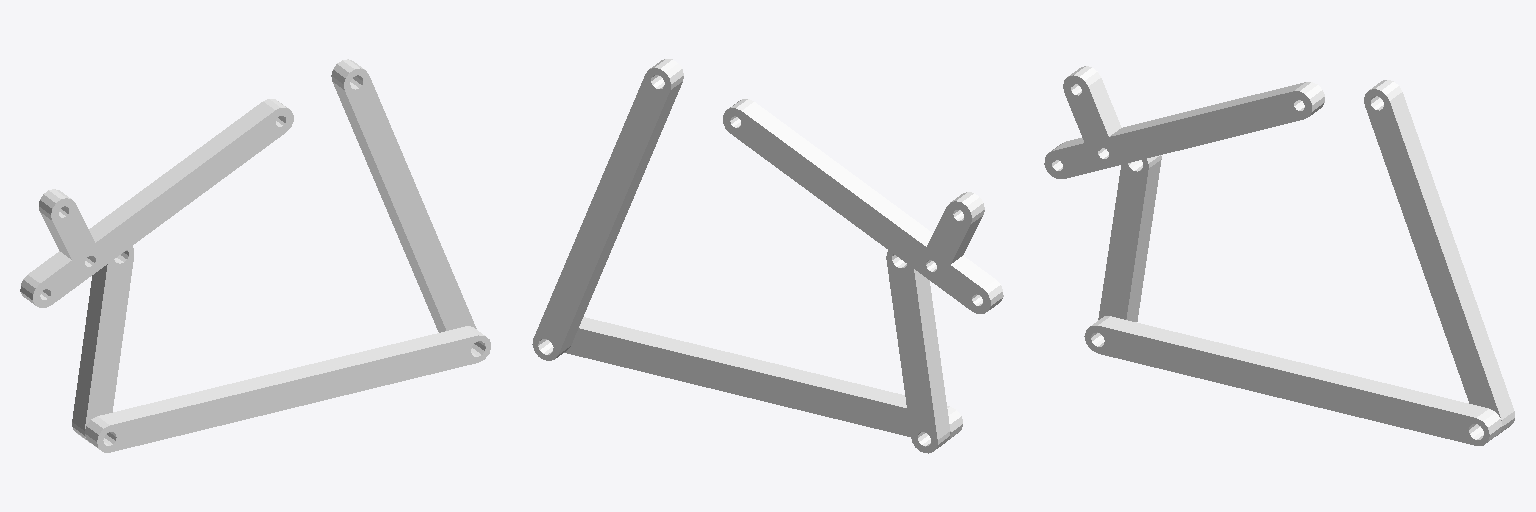
URDF robot description (four_links):
<?xml version="1.0" encoding="utf-8"?>
<!-- This URDF was automatically created by SolidWorks to URDF Exporter! Originally created by [author] ([email redacted]) 
     Commit Version: 1.6.0-4-g7f85cfe  Build Version: 1.6.7995.38578
     For more information, please see http://wiki.ros.org/sw_urdf_exporter -->
<robot
  name="four_links">
  <link
    name="base_link">
    <inertial>
      <origin
        xyz="-0.0420417072243827 -0.0743722309975965 -0.0245209736544894"
        rpy="0 0 0" />
      <mass
        value="0.0209510308536538" />
      <inertia
        ixx="4.31058987194356E-07"
        ixy="9.00920390220769E-22"
        ixz="1.6265494408689E-22"
        iyy="5.33666050979322E-05"
        iyz="3.4274231660628E-24"
        izz="5.34484802375657E-05" />
    </inertial>
    <visual>
      <origin
        xyz="0 0 0"
        rpy="0 0 0" />
      <geometry>
        <mesh
          filename="package://four_links/meshes/base_link.STL" />
      </geometry>
      <material
        name="">
        <color
          rgba="1 1 1 1" />
      </material>
    </visual>
    <collision>
      <origin
        xyz="0 0 0"
        rpy="0 0 0" />
      <geometry>
        <mesh
          filename="package://four_links/meshes/base_link.STL" />
      </geometry>
    </collision>
  </link>
  <link
    name="linkAB">
    <inertial>
      <origin
        xyz="0.0371817038425088 -6.08402217494586E-14 -0.005"
        rpy="0 0 0" />
      <mass
        value="0.00950214387592874" />
      <inertia
        ixx="1.97084106558777E-07"
        ixy="-2.59238403974119E-21"
        ixz="-7.40987074598825E-23"
        iyy="5.19422383682696E-06"
        iyz="-6.26387574287629E-24"
        izz="5.23293887878693E-06" />
    </inertial>
    <visual>
      <origin
        xyz="0 0 0"
        rpy="0 0 0" />
      <geometry>
        <mesh
          filename="package://four_links/meshes/linkAB.STL" />
      </geometry>
      <material
        name="">
        <color
          rgba="1 1 1 1" />
      </material>
    </visual>
    <collision>
      <origin
        xyz="0 0 0"
        rpy="0 0 0" />
      <geometry>
        <mesh
          filename="package://four_links/meshes/linkAB.STL" />
      </geometry>
    </collision>
  </link>
  <joint
    name="jointA"
    type="continuous">
    <origin
      xyz="-0.126714490675986 0.0295209736544894 -0.0743722309975965"
      rpy="1.5707963267949 -1.42221124002695 0" />
    <parent
      link="base_link" />
    <child
      link="linkAB" />
    <axis
      xyz="0 0 1" />
  </joint>
  <link
    name="linkBC">
    <inertial>
      <origin
        xyz="0.0544311472852489 0.00364847640014895 -0.00500000000448934"
        rpy="0 0 0" />
      <mass
        value="0.0180946249077626" />
      <inertia
        ixx="1.35905209390565E-06"
        ixy="1.7357626470457E-06"
        ixz="-1.42991788926848E-22"
        iyy="2.39956392272529E-05"
        iyz="4.56105317644272E-23"
        izz="2.50531142393625E-05" />
    </inertial>
    <visual>
      <origin
        xyz="0 0 0"
        rpy="0 0 0" />
      <geometry>
        <mesh
          filename="package://four_links/meshes/linkBC.STL" />
      </geometry>
      <material
        name="">
        <color
          rgba="1 1 1 1" />
      </material>
    </visual>
    <collision>
      <origin
        xyz="0 0 0"
        rpy="0 0 0" />
      <geometry>
        <mesh
          filename="package://four_links/meshes/linkBC.STL" />
      </geometry>
    </collision>
  </link>
  <joint
    name="jointB"
    type="continuous">
    <origin
      xyz="0.074166528159762 0.000154719377460921 -0.00999999999551065"
      rpy="0 0 -0.982349251785507" />
    <parent
      link="linkAB" />
    <child
      link="linkBC" />
    <axis
      xyz="0 0 1" />
  </joint>
  <link
    name="linkCD">
    <inertial>
      <origin
        xyz="-0.0678253502735387 -3.00037772404949E-14 -0.005"
        rpy="0 0 0" />
      <mass
        value="0.0167330198618603" />
      <inertia
        ixx="3.44857715381249E-07"
        ixy="6.81596824743695E-21"
        ixz="-8.50419918939852E-24"
        iyy="2.73613018527324E-05"
        iyz="9.68938210760468E-23"
        izz="2.74272759037493E-05" />
    </inertial>
    <visual>
      <origin
        xyz="0 0 0"
        rpy="0 0 0" />
      <geometry>
        <mesh
          filename="package://four_links/meshes/linkCD.STL" />
      </geometry>
      <material
        name="">
        <color
          rgba="1 1 1 1" />
      </material>
    </visual>
    <collision>
      <origin
        xyz="0 0 0"
        rpy="0 0 0" />
      <geometry>
        <mesh
          filename="package://four_links/meshes/linkCD.STL" />
      </geometry>
    </collision>
  </link>
  <joint
    name="jointD"
    type="continuous">
    <origin
      xyz="0.0432855093240141 0.0295209736544894 -0.0743722309975965"
      rpy="1.5707963267949 1.18883685572557 0" />
    <parent
      link="base_link" />
    <child
      link="linkCD" />
    <axis
      xyz="0 0 1" />
  </joint>
</robot>

--- What the picture shows (computed from the rendered views, not written in the file) ---
Views: 3 orthographic renders of the robot side by side, from view 1: azimuth 30°, elevation 25°; view 2: azimuth 150°, elevation 25°; view 3: azimuth 330°, elevation 25°.
Model four_links with 4 links and 3 joints (3 continuous), rooted at base_link, posed all joints at 0.
Links seen in each view (by area): view 1: base_link, linkBC, linkCD, linkAB; view 2: linkBC, base_link, linkCD, linkAB; view 3: base_link, linkCD, linkBC, linkAB.
Link boxes in pixels (left/top/right/bottom): base_link: left=85, top=326, right=490, bottom=452; linkBC: left=20, top=99, right=293, bottom=307; linkCD: left=331, top=59, right=476, bottom=332; linkAB: left=72, top=242, right=133, bottom=442; linkBC: left=723, top=99, right=1003, bottom=313; base_link: left=564, top=317, right=962, bottom=439; linkCD: left=532, top=59, right=683, bottom=360; linkAB: left=886, top=246, right=950, bottom=453; base_link: left=1084, top=316, right=1502, bottom=445; linkCD: left=1364, top=80, right=1514, bottom=435; linkBC: left=1044, top=66, right=1324, bottom=178; linkAB: left=1098, top=149, right=1161, bottom=321.
Bounding box of the posed robot: 0.2058 × 0.02 × 0.1372 m (x, y, z).
Meshes: 4 distinct files referenced, 4 mesh visuals loaded (4 binary STL).